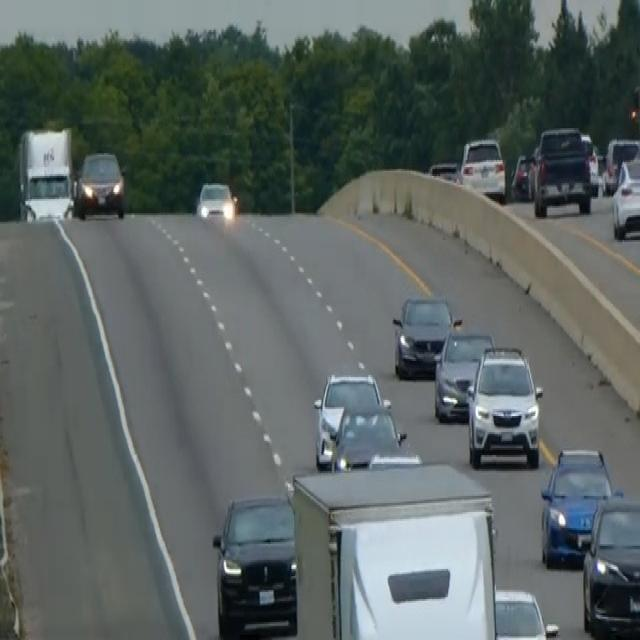car: (211, 491, 297, 638), (539, 443, 618, 567), (312, 368, 404, 469), (581, 492, 639, 638), (433, 318, 494, 422), (391, 292, 455, 378), (74, 148, 126, 218), (493, 585, 560, 638), (458, 133, 506, 203), (610, 155, 639, 240), (602, 135, 639, 194), (195, 178, 236, 226), (579, 130, 600, 196), (510, 149, 535, 201), (428, 158, 459, 183)
jeep: (529, 122, 595, 218)
lorry: (15, 123, 76, 222)
minivan: (464, 342, 544, 469)
truck: (289, 461, 498, 638)
